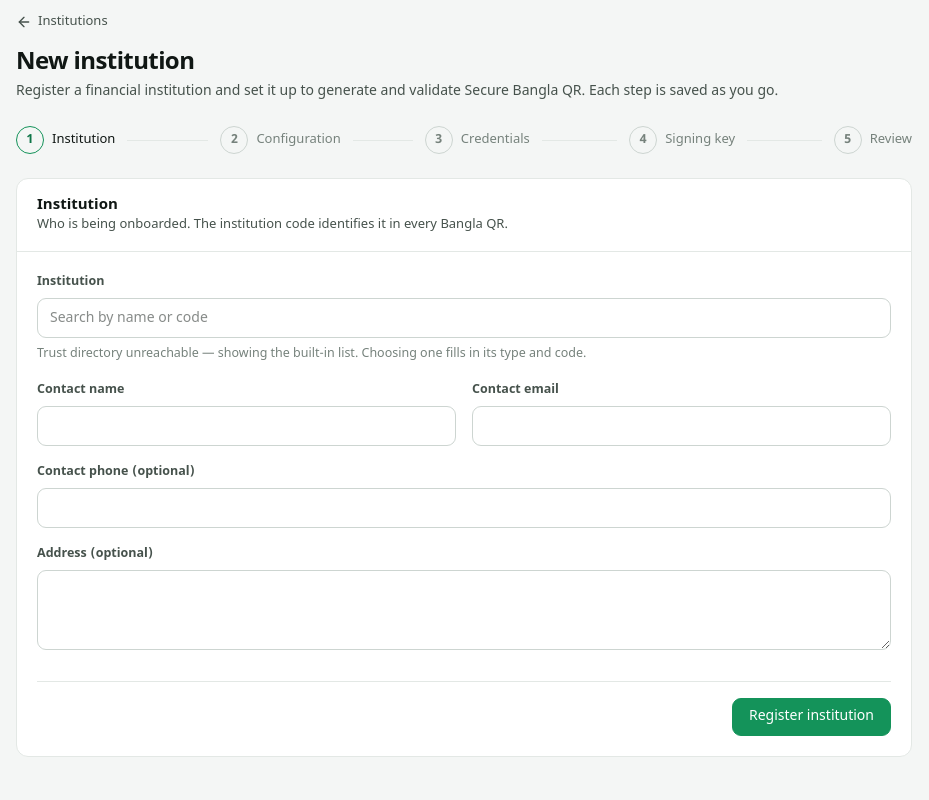
Test: institution onboarding: the first step › validates the institution step
The width and height of the screenshot is (929, 800).
Click the button "Register institution" at (812, 717), box [732,698,891,736]
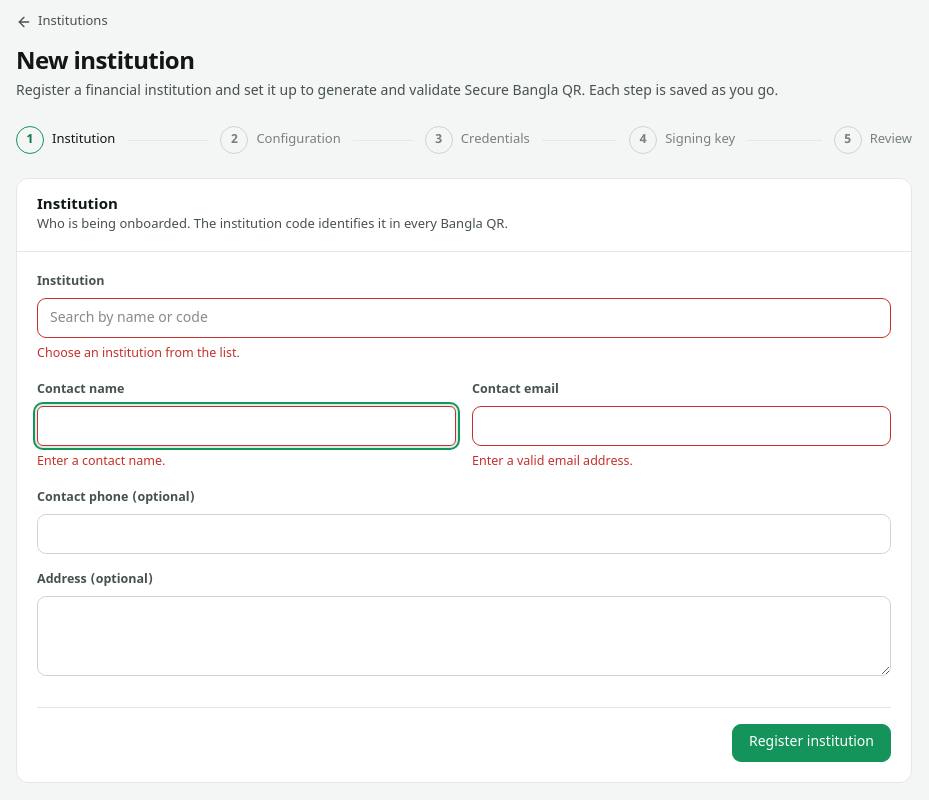
Expected: the text "Choose an institution from the list." is shown, [37,346,240,362]
Expected: the text "Enter a contact name." is shown, [37,454,165,470]
